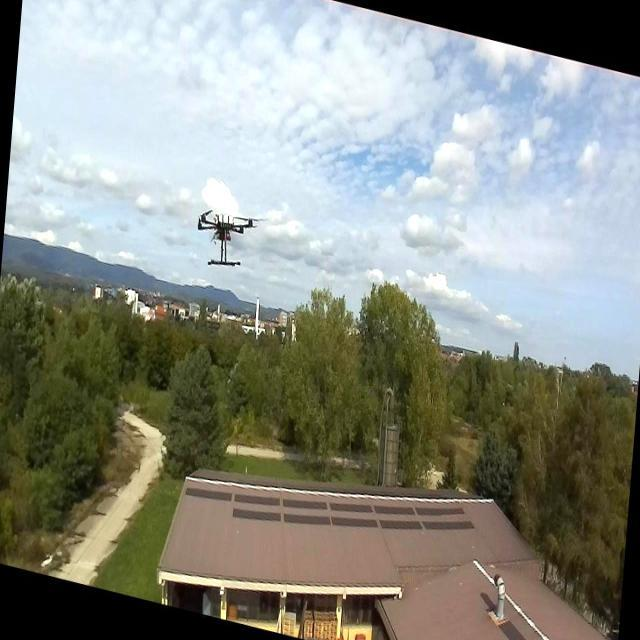drone: (193, 197, 262, 280)
